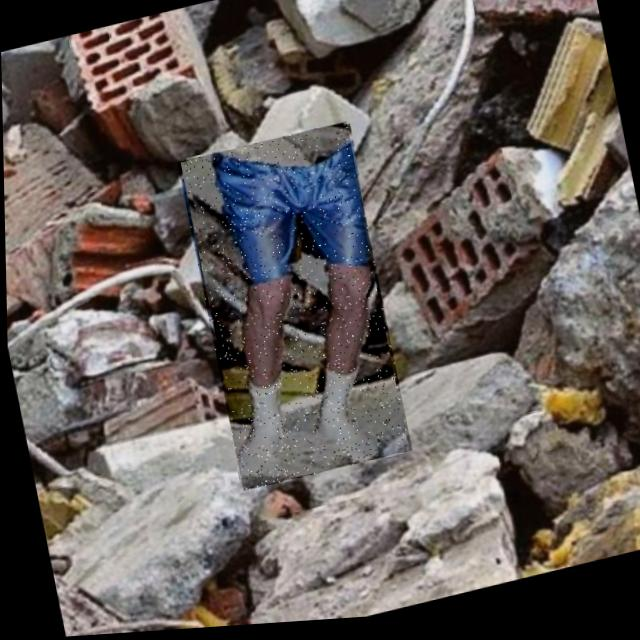Person in Rubble: (176, 122, 410, 497)
